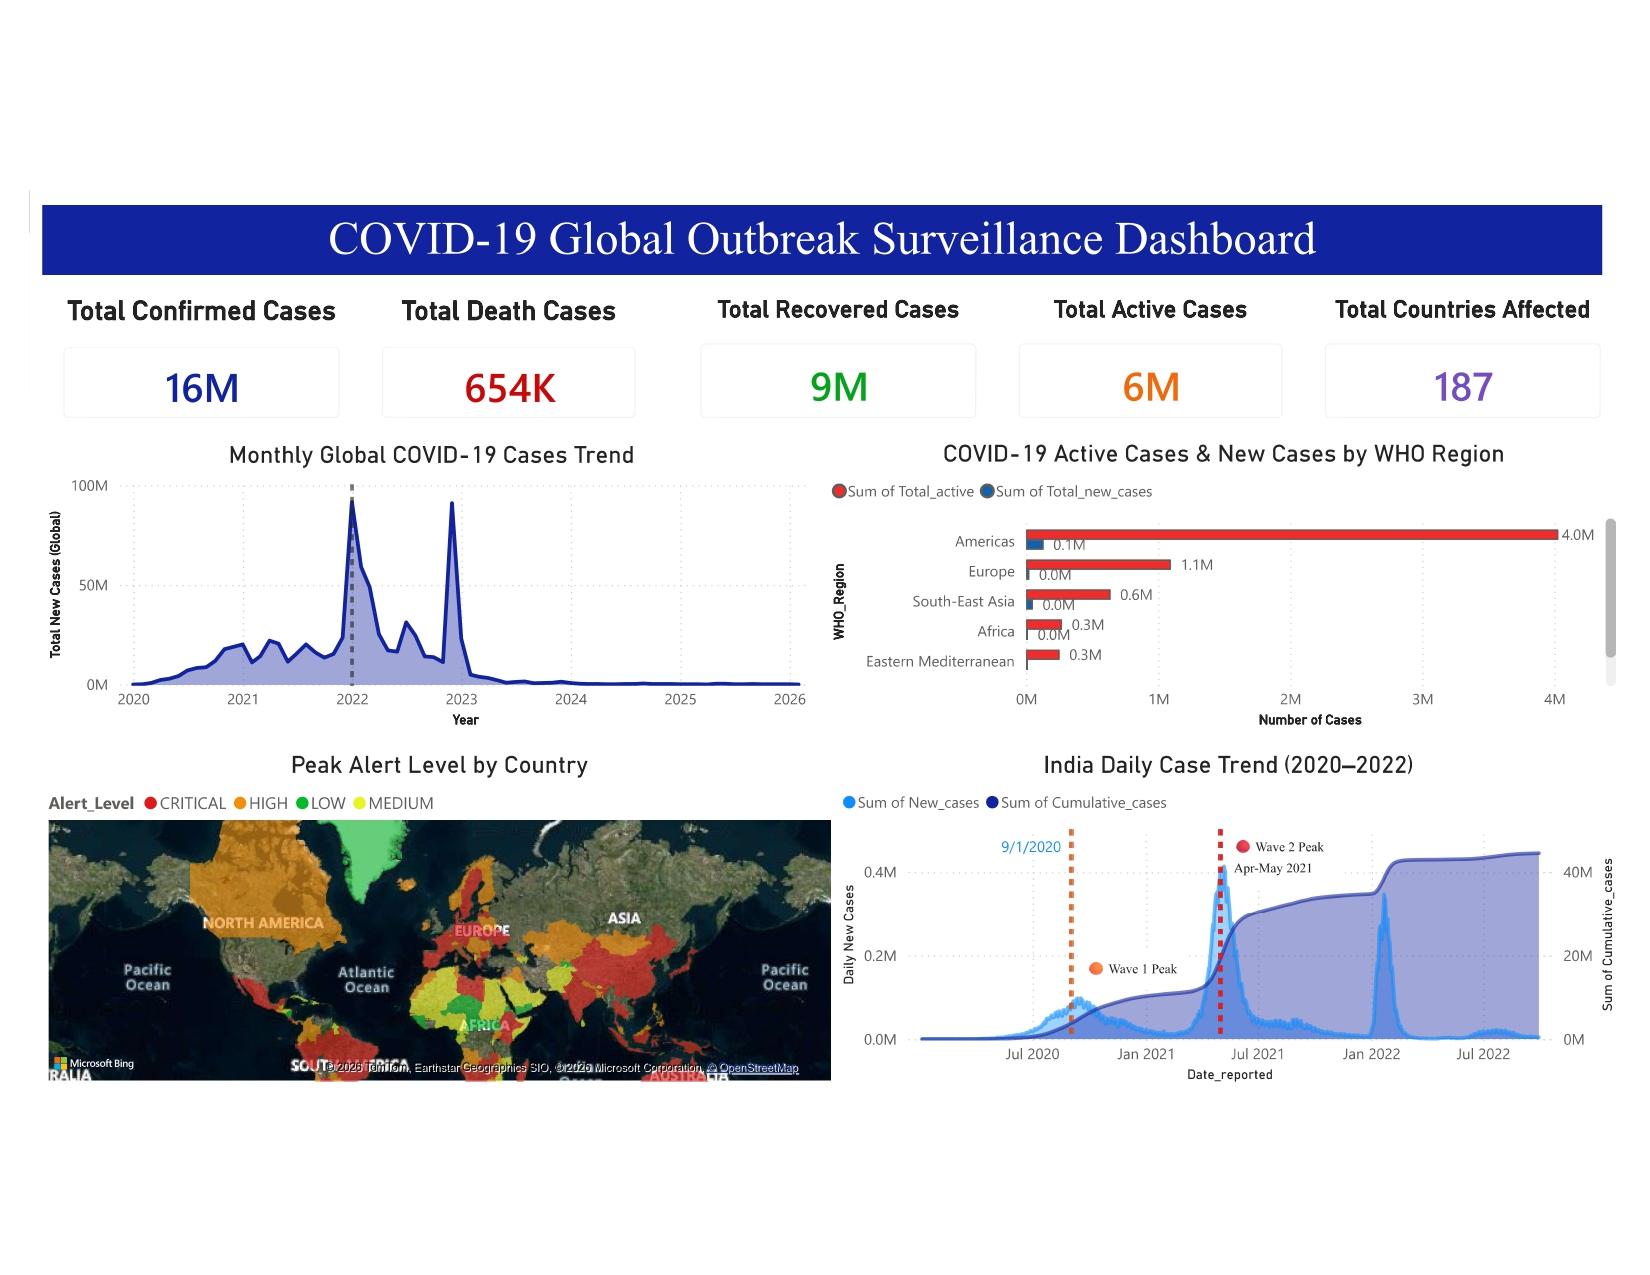

This screenshot's page, from the dashboard's own definition file:
{"tool":"powerbi","page":{"name":"Page 1","canvas":[1280,720],"ordinal":0},"visuals":[{"type":"textbox","box":[10,12,1254,56],"z":0},{"type":"cardVisual","title":"Total Confirmed Cases","fields":{"Data":["Sum(Global summary.Total_Confirmed)"]},"box":[10,84,256,116],"z":1000},{"type":"cardVisual","title":"Total Death Cases","fields":{"Data":["Sum(Global summary.Total_Deaths)"]},"box":[266,84,238,116],"z":2000},{"type":"cardVisual","title":"Total Recovered Cases","fields":{"Data":["Sum(Global summary.Total_Recovered)"]},"box":[522,84,256,116],"z":3000},{"type":"cardVisual","title":"Total Active Cases","fields":{"Data":["Sum(Global summary.Total_Active)"]},"box":[778,84,246,116],"z":4000},{"type":"cardVisual","title":"Total Countries Affected","fields":{"Data":["Sum(Global summary.Countries_Affected)"]},"box":[1024,84,256,116],"z":5000},{"type":"lineChart","title":"Monthly Global COVID-19 Cases Trend","fields":{"Y":["Sum(Month-wise total new cases globally.Monthly_cases)"],"Category":["Month-wise total new cases globally.Month.Variation.Date Hierarchy.Year","Month-wise total new cases globally.Month.Variation.Date Hierarchy.Quarter","Month-wise total new cases globally.Month.Variation.Date Hierarchy.Month","Month-wise total new cases globally.Month.Variation.Date Hierarchy.Day"]},"box":[9.7,200.8,626.6,234.8],"z":6000},{"type":"clusteredBarChart","title":"COVID-19 Active Cases & New Cases by WHO Region","fields":{"Category":["who regions with total cases and new cases.WHO_Region"],"Y":["Sum(who regions with total cases and new cases.Total_active)","Sum(who regions with total cases and new cases.Total_new_cases)"]},"box":[640,200,640,236],"z":7000},{"type":"filledMap","title":"Peak Alert Level by Country","fields":{"Category":["alert levels.Country"],"Series":["alert levels.Alert_Level"]},"box":[9.7,450.1,639.6,270.4],"z":8000},{"type":"areaChart","title":"India Daily Case Trend (2020–2022)","fields":{"Y":["Sum(new case trend in india.New_cases)"],"Y2":["Sum(new case trend in india.Cumulative_cases)"],"Category":["new case trend in india.Date_reported"]},"box":[647.7,450.1,631.5,270.4],"z":9000},{"type":"textbox","box":[963.4,511.7,93.9,47],"z":10000},{"type":"textbox","box":[845.2,610.4,84.2,29.1],"z":11000}]}

Visuals, with their boxes on the page's 1280x720 design canvas (x1, y1, x2, y2). These are canvas units, not pixel positions in the 1650x1275 screenshot, which may show the page scaled, cropped or inside an application window:
textbox: region(10, 12, 1264, 68)
"Total Confirmed Cases" cardVisual: region(10, 84, 266, 200)
"Total Death Cases" cardVisual: region(266, 84, 504, 200)
"Total Recovered Cases" cardVisual: region(522, 84, 778, 200)
"Total Active Cases" cardVisual: region(778, 84, 1024, 200)
"Total Countries Affected" cardVisual: region(1024, 84, 1280, 200)
"Monthly Global COVID-19 Cases Trend" lineChart: region(10, 201, 636, 436)
"COVID-19 Active Cases & New Cases by WHO Region" clusteredBarChart: region(640, 200, 1280, 436)
"Peak Alert Level by Country" filledMap: region(10, 450, 649, 720)
"India Daily Case Trend (2020–2022)" areaChart: region(648, 450, 1279, 720)
textbox: region(963, 512, 1057, 559)
textbox: region(845, 610, 929, 640)
